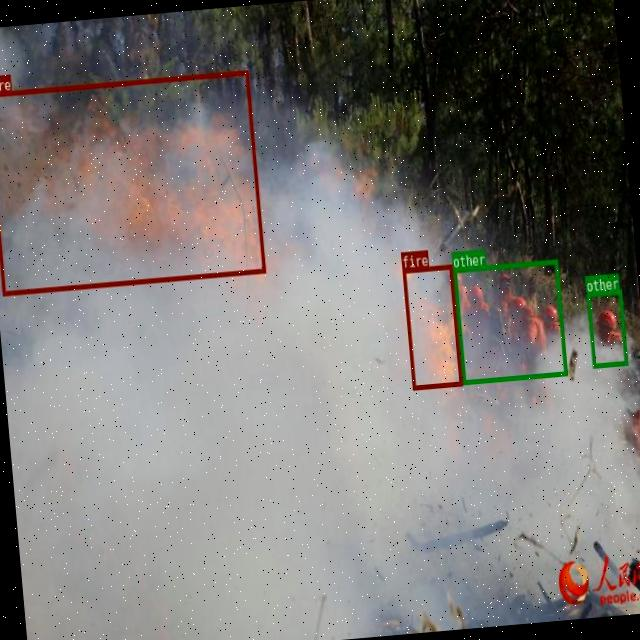fire: (0, 69, 264, 295), (402, 263, 462, 389)
